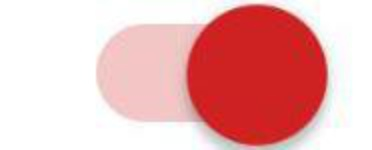Switch: (1, 1, 371, 149)
